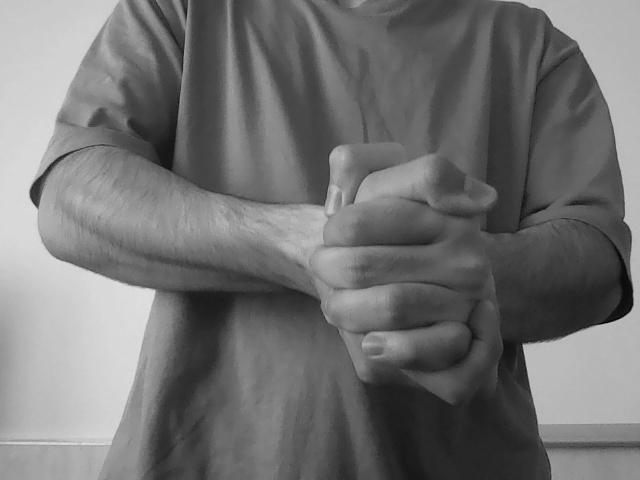friend: (282, 139, 513, 405)
